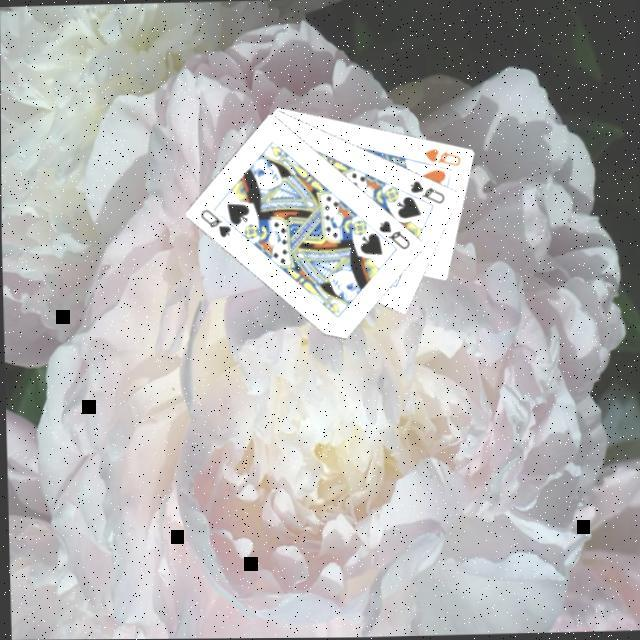QH: (422, 146, 464, 170)
QS: (376, 217, 414, 254), (198, 205, 235, 242), (408, 178, 448, 208)
